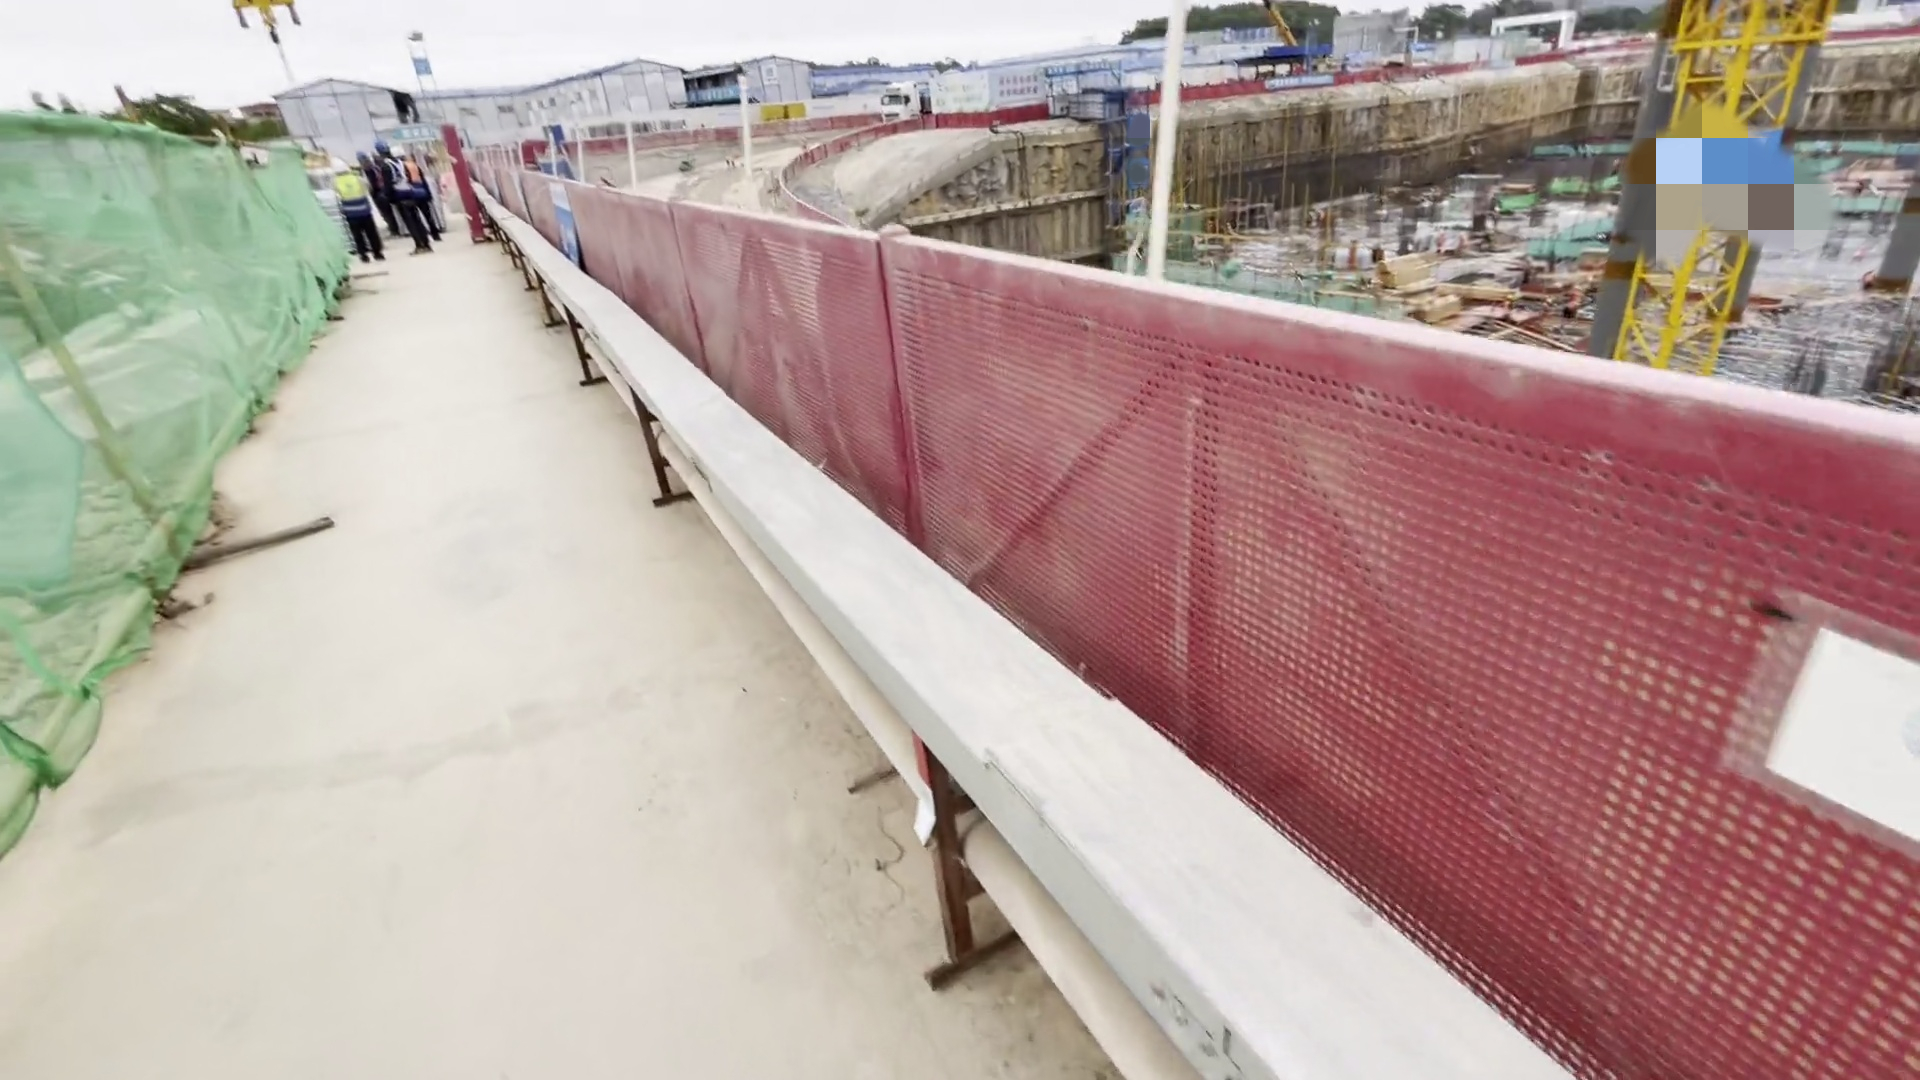helmet: (353, 145, 383, 176), (376, 139, 402, 168), (330, 155, 352, 179)
person: (378, 134, 447, 261), (327, 156, 394, 267)
vest: (386, 165, 429, 213), (403, 157, 440, 204), (339, 177, 362, 211)
